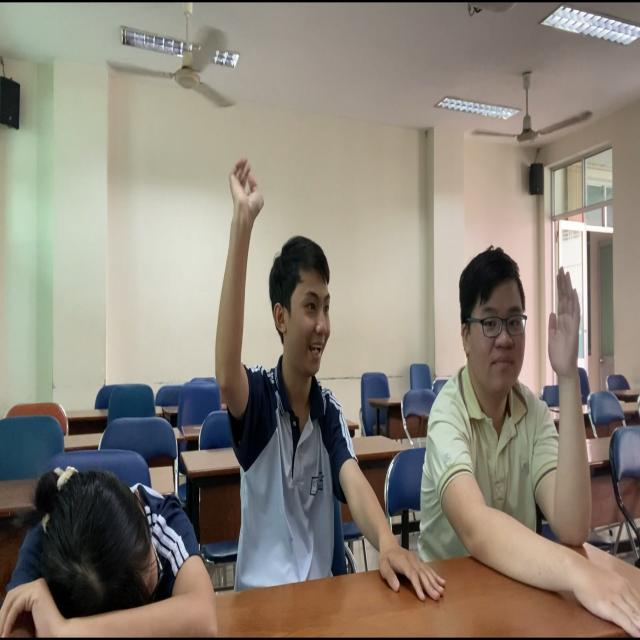raise_hand: (216, 150, 338, 629), (449, 244, 595, 611)
sleep: (1, 462, 219, 640)
